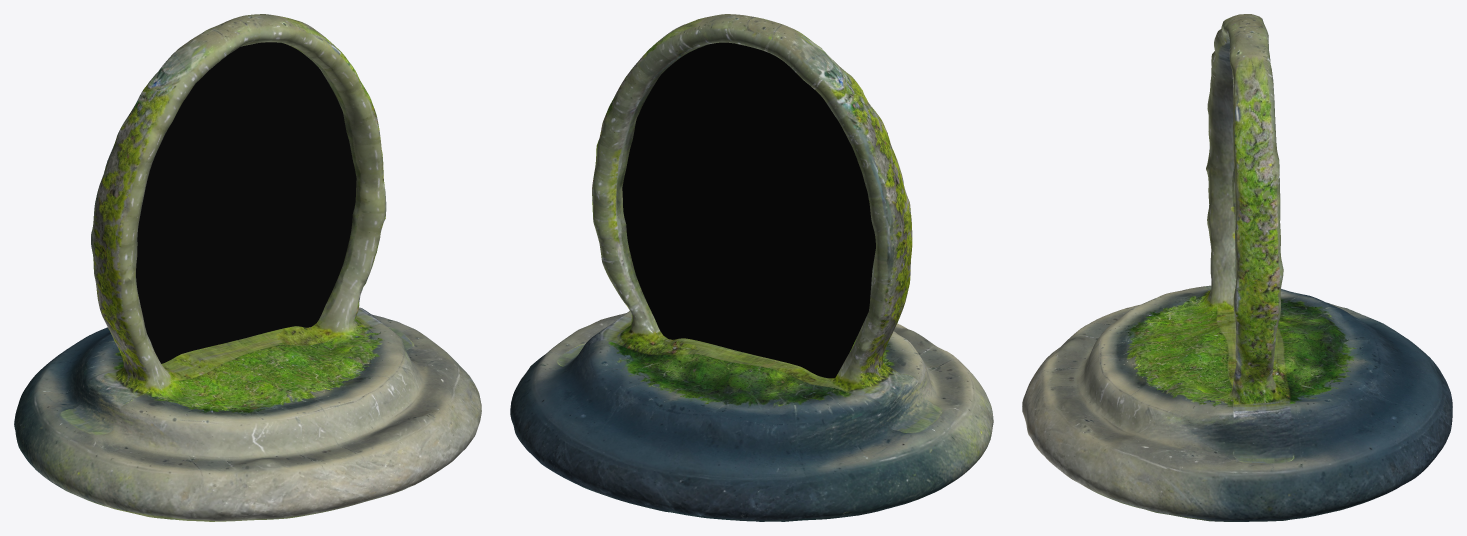
The model's file is ThePortal.glb.
3 renders of one model, left to right at view 1: azimuth 30°, elevation 25°; view 2: azimuth 150°, elevation 25°; view 3: azimuth 270°, elevation 25°, orthographic. The views are drawn at different scales.
Visible parts, largest first — view 1: Mesh_0, Plane; view 2: Mesh_0, Plane; view 3: Mesh_0.
Boxes of the visible parts, <box> form: Mesh_0: <box>14,14,481,521</box>; Plane: <box>136,42,356,363</box>; Mesh_0: <box>510,14,993,521</box>; Plane: <box>622,42,875,378</box>; Mesh_0: <box>1022,14,1452,521</box>.
Bounding box in the file's own units: 1.2 × 1.16 × 1.1.
Materials: 2 (2 with a texture image).
